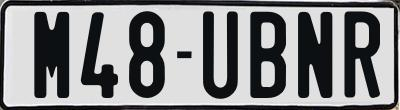4: (80, 12, 123, 100)
8: (129, 8, 171, 96)
B: (249, 12, 290, 103)
M: (33, 11, 74, 99)
N: (295, 11, 330, 97)
R: (342, 9, 384, 100)
U: (203, 9, 243, 100)
